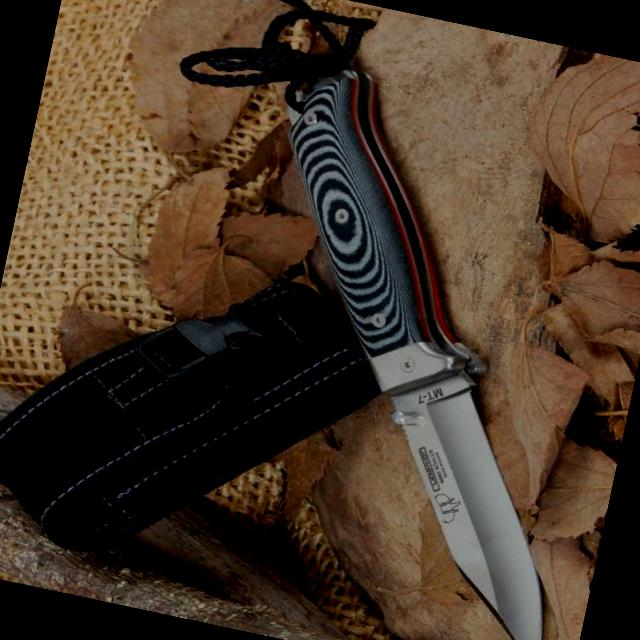knife: (300, 311, 615, 639)
